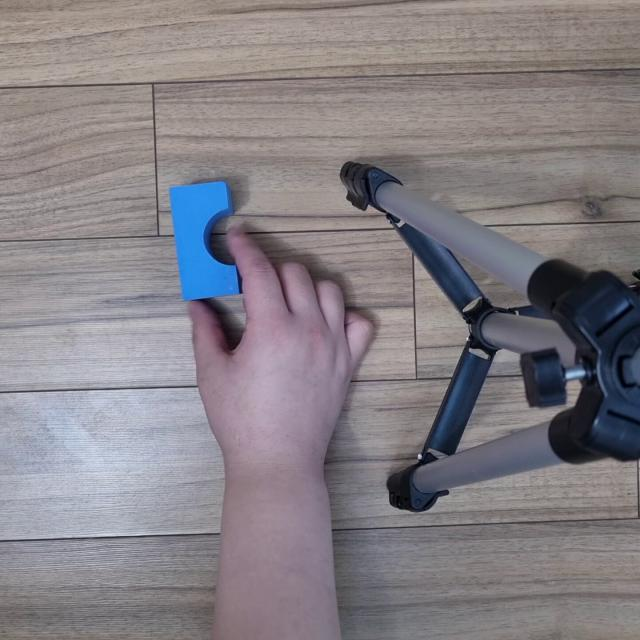block: (156, 170, 246, 313)
hand: (195, 217, 404, 500)
